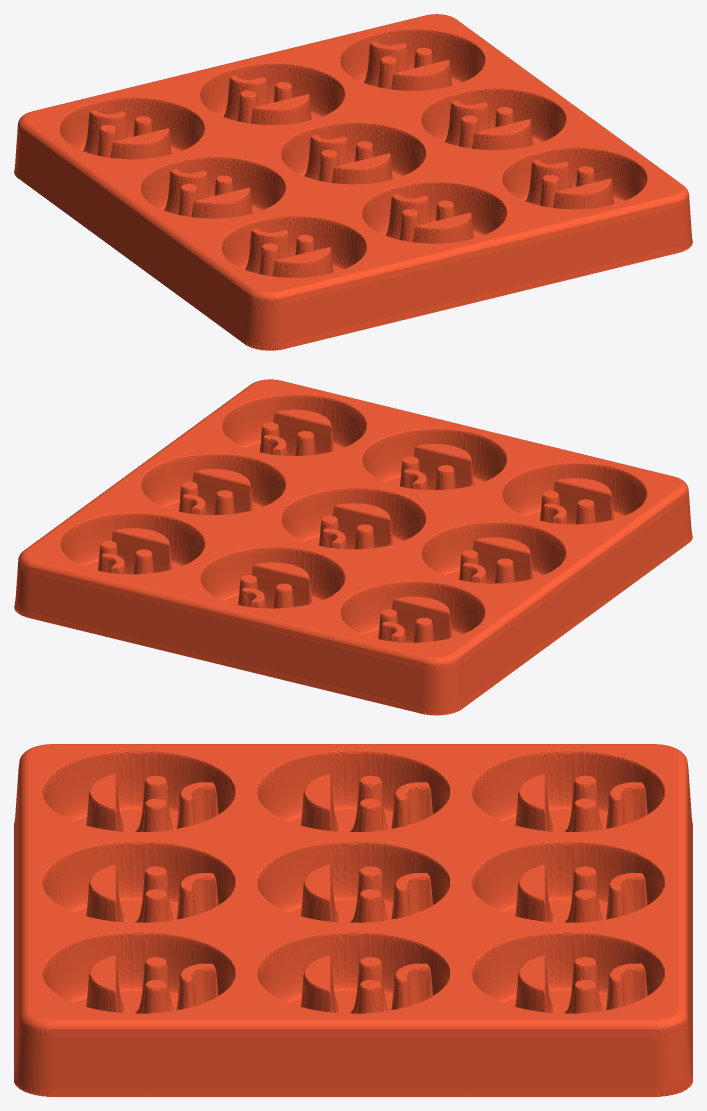
File: mold.glb
The picture shows the model from 3 angles, top to bottom: view 1: azimuth 30°, elevation 25°; view 2: azimuth 150°, elevation 25°; view 3: azimuth 270°, elevation 25°; orthographic projection. The views are drawn at different scales.
Parts seen in each view (by area): view 1: geometry_0; view 2: geometry_0; view 3: geometry_0.
Part boxes in pixels (x1,y1,x2,y2): geometry_0: (14, 14, 692, 350); geometry_0: (14, 379, 692, 715); geometry_0: (14, 744, 692, 1096).
Bounding box in the file's own units: 0.1595 × 0.0185 × 0.1595.
